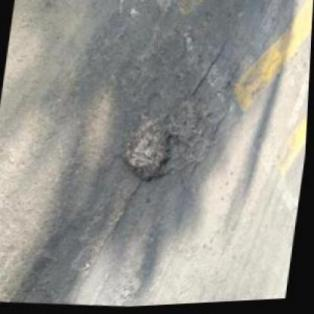Hueco: (118, 110, 180, 189), (173, 95, 207, 146), (216, 64, 238, 94)
